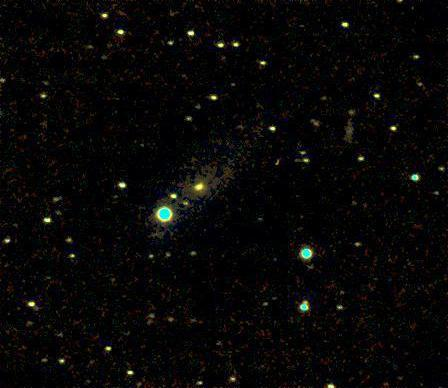star: (187, 173, 217, 203)
